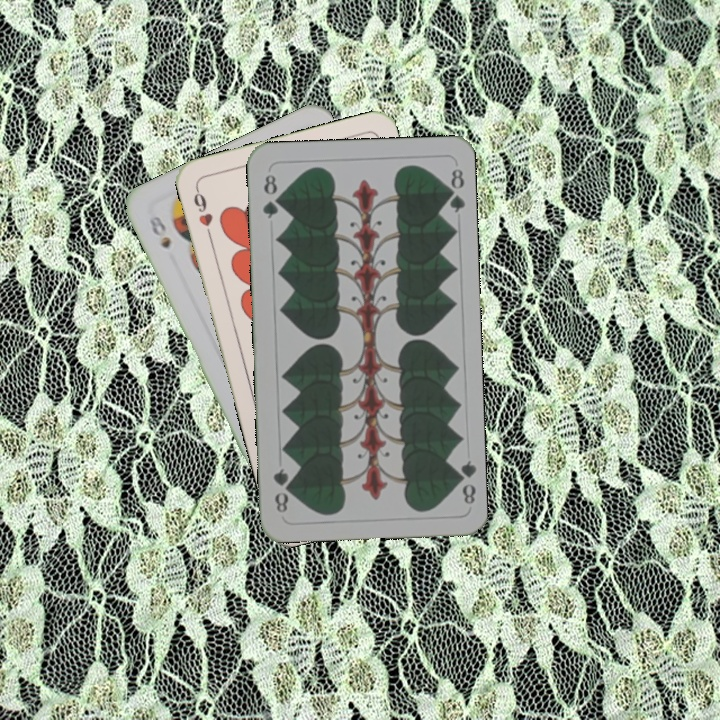G8: (450, 456, 478, 507), (258, 170, 282, 221)
H9: (189, 183, 216, 242)
S8: (145, 212, 174, 251)
